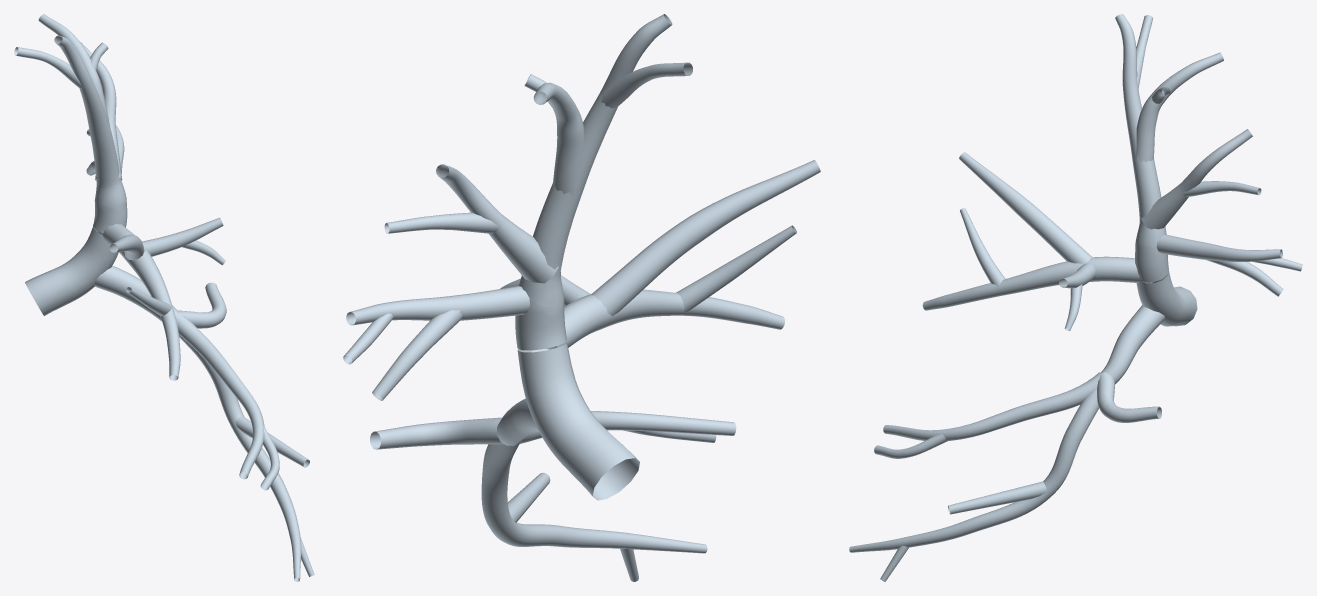
The model's file is visceras-left-superior-lobar-bronchus.glb.
The picture shows the model from 3 angles, left to right: view 1: azimuth 30°, elevation 25°; view 2: azimuth 150°, elevation 25°; view 3: azimuth 270°, elevation 25°; orthographic projection. The views are drawn at different scales.
Visible parts, largest first — view 1: Apicoposterior segmental bronchus of left lung (BI+BII), Anterior segmental bronchus of left lung (BIII), Left superior lobar bronchus, Superior lingular segmental bronchus of left lung (BIV), Inferior lingular segmental bronchus of left lung (BV); view 2: Apicoposterior segmental bronchus of left lung (BI+BII), Anterior segmental bronchus of left lung (BIII), Left superior lobar bronchus, Inferior lingular segmental bronchus of left lung (BV), Superior lingular segmental bronchus of left lung (BIV); view 3: Apicoposterior segmental bronchus of left lung (BI+BII), Anterior segmental bronchus of left lung (BIII), Inferior lingular segmental bronchus of left lung (BV), Superior lingular segmental bronchus of left lung (BIV), Left superior lobar bronchus.
Boxes of the visible parts, box(x1,y1,x2,y2) form: Apicoposterior segmental bronchus of left lung (BI+BII): box(14, 14, 127, 233); Anterior segmental bronchus of left lung (BIII): box(98, 217, 225, 380); Left superior lobar bronchus: box(25, 226, 179, 321); Superior lingular segmental bronchus of left lung (BIV): box(175, 282, 279, 490); Inferior lingular segmental bronchus of left lung (BV): box(179, 335, 314, 581); Apicoposterior segmental bronchus of left lung (BI+BII): box(343, 14, 692, 400); Anterior segmental bronchus of left lung (BIII): box(500, 160, 820, 352); Left superior lobar bronchus: box(497, 342, 639, 500); Inferior lingular segmental bronchus of left lung (BV): box(481, 442, 707, 581); Superior lingular segmental bronchus of left lung (BIV): box(370, 411, 736, 449); Apicoposterior segmental bronchus of left lung (BI+BII): box(1115, 14, 1302, 296); Anterior segmental bronchus of left lung (BIII): box(922, 152, 1152, 330); Inferior lingular segmental bronchus of left lung (BV): box(849, 388, 1098, 581); Superior lingular segmental bronchus of left lung (BIV): box(874, 372, 1161, 458); Left superior lobar bronchus: box(1100, 270, 1197, 384).
Bounding box in the file's own units: 0.079 × 0.1791 × 0.1472.
